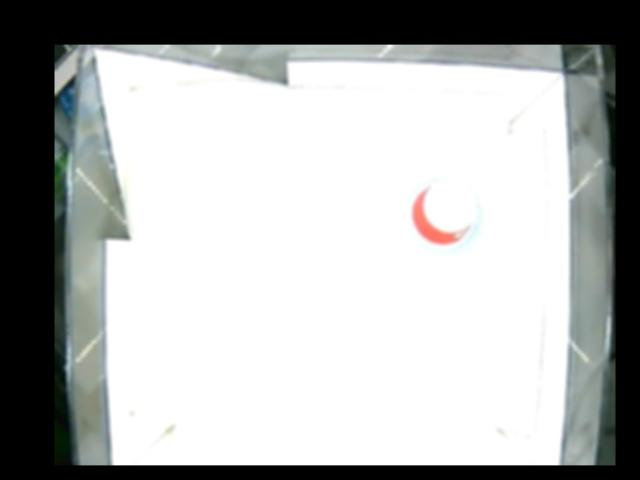Cup: (405, 177, 480, 253)
